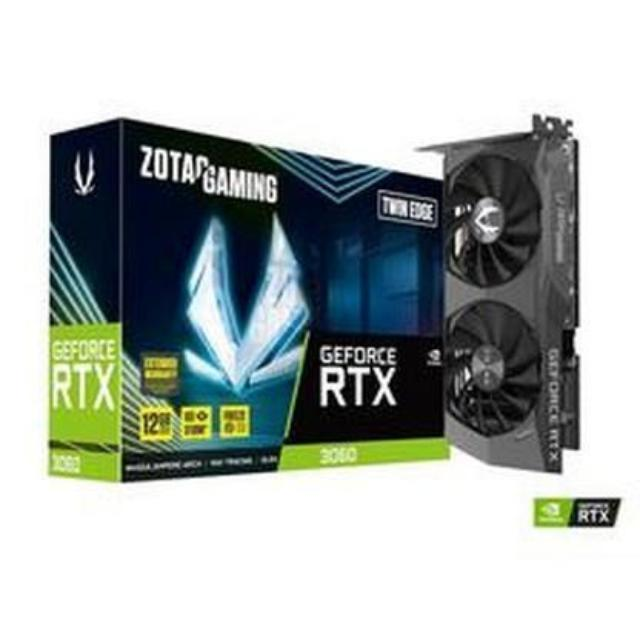GPU: (433, 112, 587, 486)
